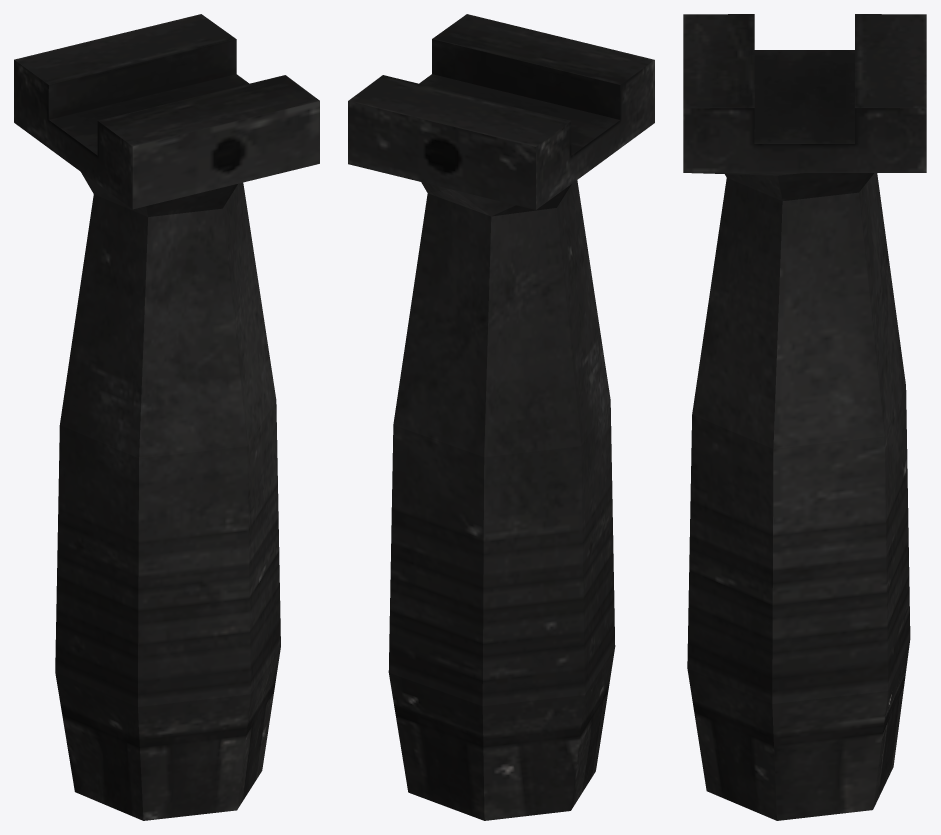
File: ForeGrip.fbx
The picture shows the model from 3 angles, left to right: view 1: azimuth 30°, elevation 25°; view 2: azimuth 150°, elevation 25°; view 3: azimuth 270°, elevation 25°; orthographic projection. The views are drawn at different scales.
Visible parts, largest first — view 1: ForeGrip; view 2: ForeGrip; view 3: ForeGrip.
Part boxes in pixels (bbox=[...]): ForeGrip: bbox=[14, 14, 319, 820]; ForeGrip: bbox=[348, 14, 654, 820]; ForeGrip: bbox=[683, 14, 926, 820].
Size of the model in its own units: 1.17 by 4 by 1.23.
